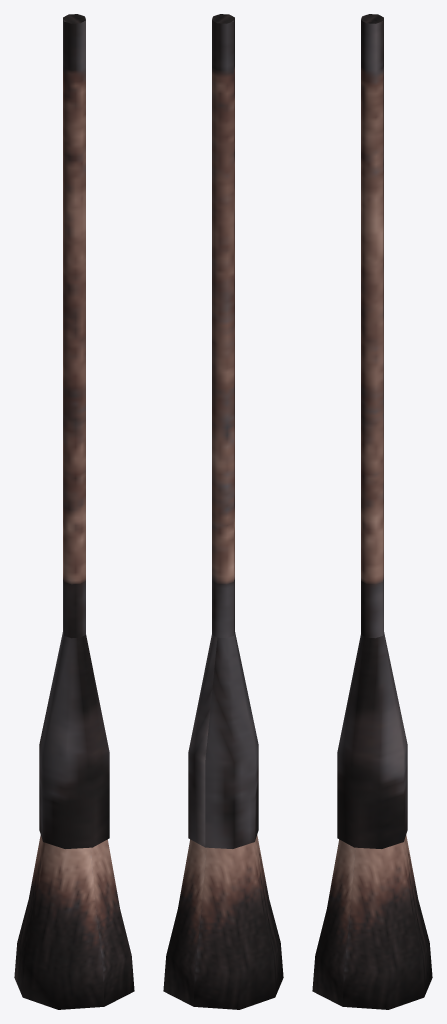
File: calligraphy_brush.fbx
The picture shows the model from 3 angles, left to right: view 1: azimuth 30°, elevation 25°; view 2: azimuth 150°, elevation 25°; view 3: azimuth 330°, elevation 25°; orthographic projection.
Visible parts, largest first — view 1: calligraphy_brush; view 2: calligraphy_brush; view 3: calligraphy_brush.
Boxes of the visible parts, x1,y1,x2,y2 form: calligraphy_brush: (14,14,134,1009); calligraphy_brush: (163,14,283,1009); calligraphy_brush: (312,14,432,1009).
Size of the model in its own units: 3.15 by 28.41 by 3.15.
1 material, 1 textured.
